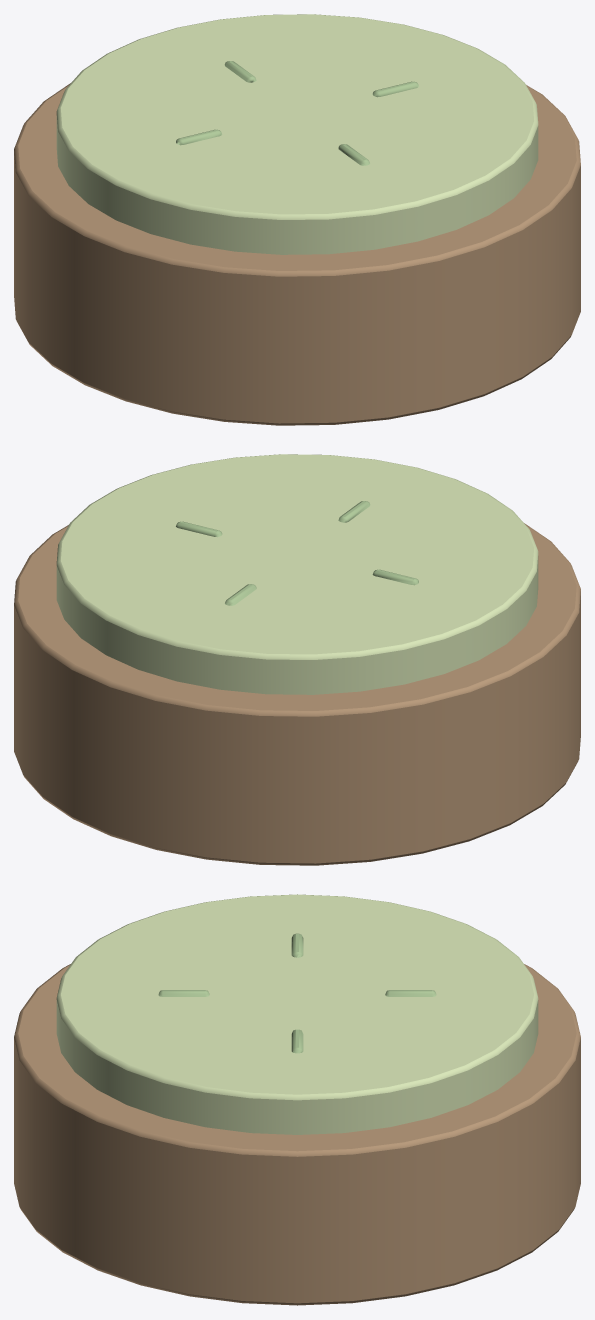
File: SM_FOD_REED_PORRIDGE.fbx
The picture shows the model from 3 angles, top to bottom: view 1: azimuth 30°, elevation 25°; view 2: azimuth 150°, elevation 25°; view 3: azimuth 270°, elevation 25°; orthographic projection.
Visible parts, largest first — view 1: SM_FOD_REED_PORRIDGE; view 2: SM_FOD_REED_PORRIDGE; view 3: SM_FOD_REED_PORRIDGE.
Part boxes in pixels (box(x1,y1,x2,y2)): SM_FOD_REED_PORRIDGE: box(14, 14, 580, 425); SM_FOD_REED_PORRIDGE: box(14, 454, 580, 865); SM_FOD_REED_PORRIDGE: box(14, 894, 580, 1305).
Size of what is drawn, in the model's own units: 0.2 by 0.0765 by 0.2.
